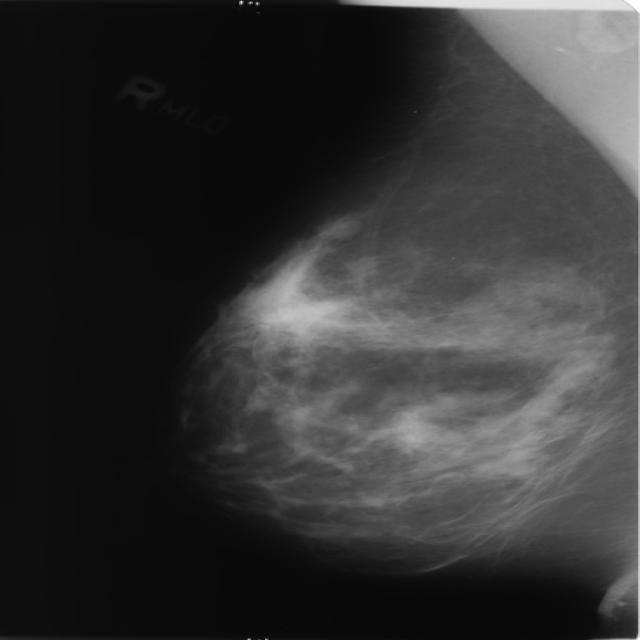tumour: (314, 216, 359, 238)
